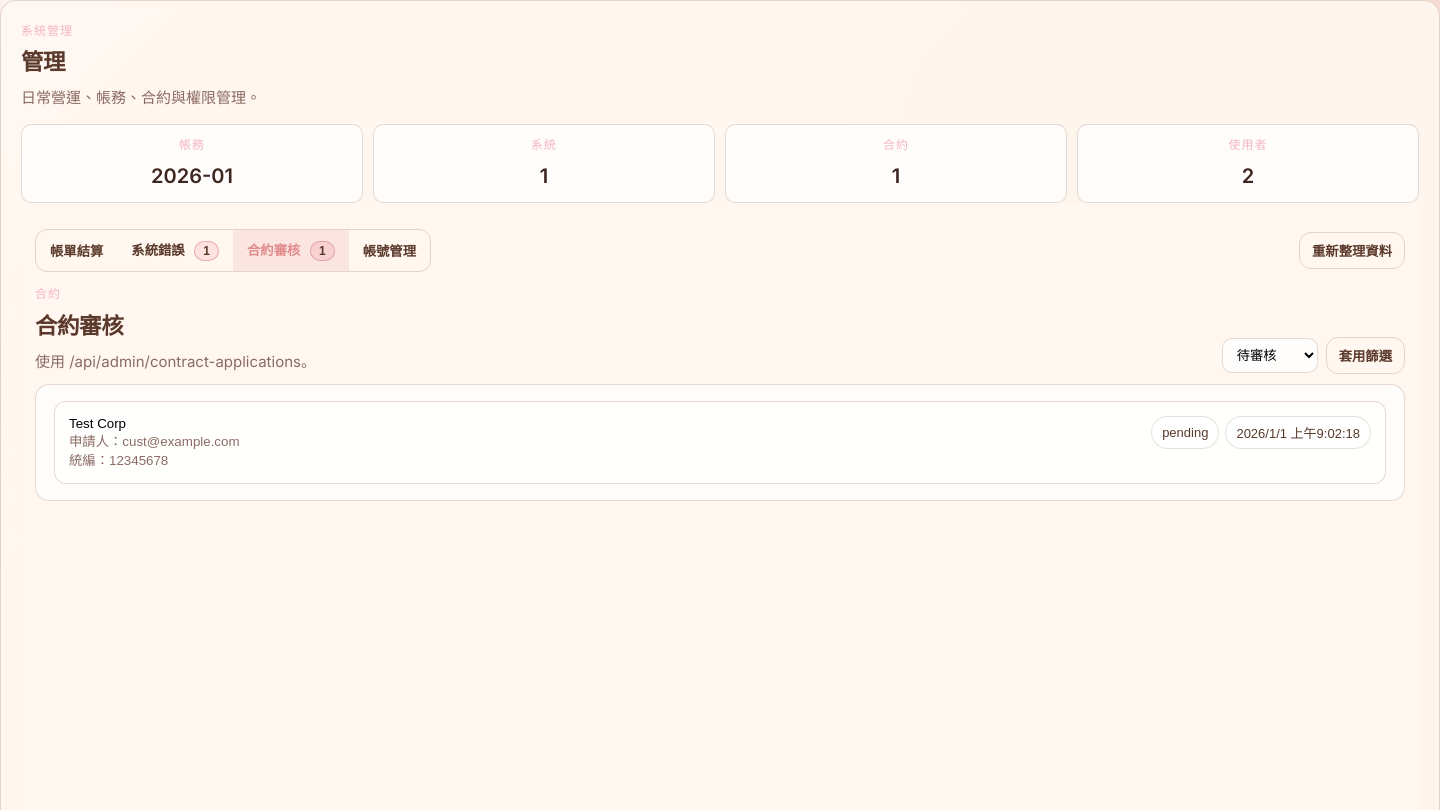
Scenario: AdminView › Tab 切換 › 應該能切換到錯誤 tab
The image size is (1440, 810).
What coordinates should you click on to do the following:
click the button "系統錯誤 1"
I would click on:
 (175, 251)
Its box is x1=117 y1=230 x2=233 y2=271.
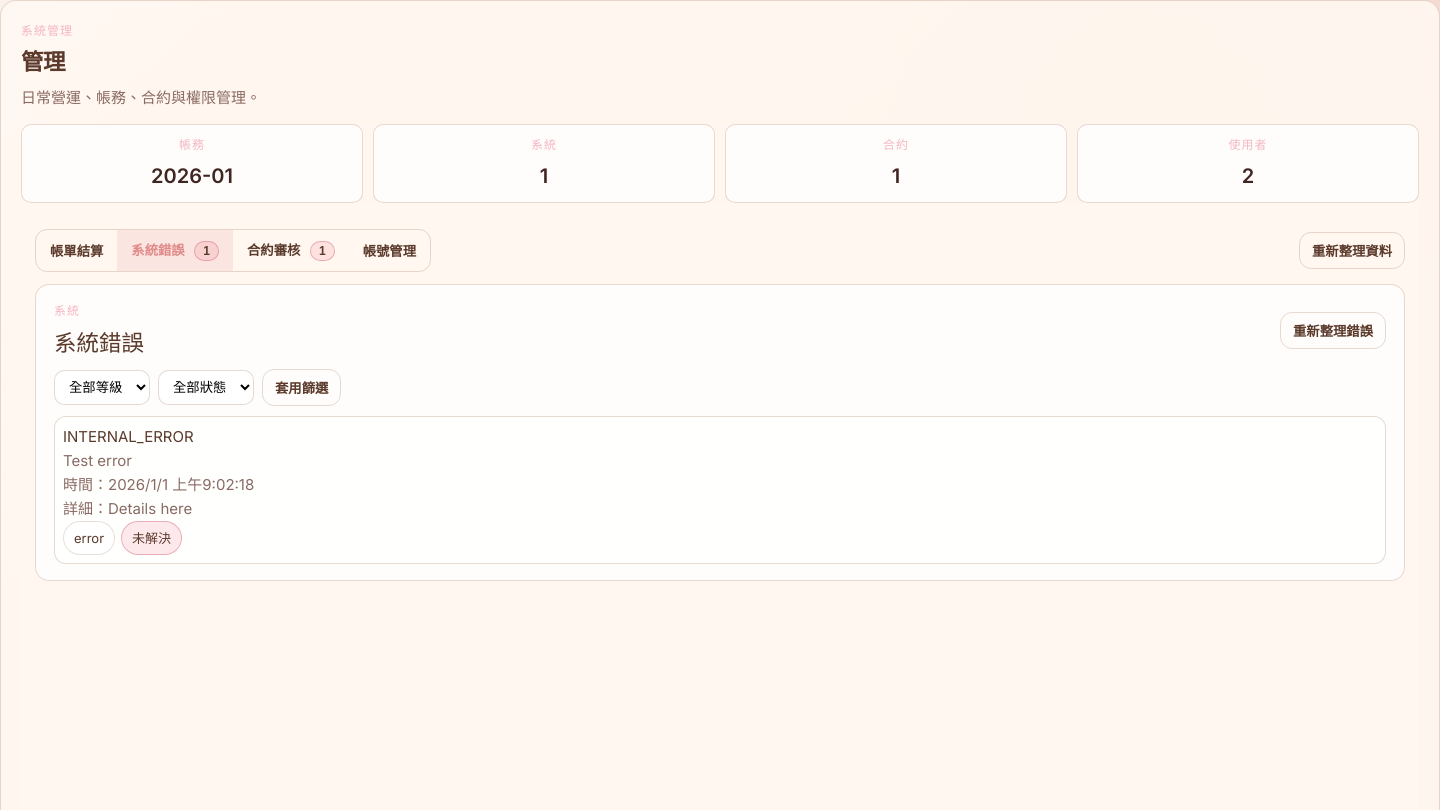
Now the text "INTERNAL_ERROR" is shown, box x1=63 y1=427 x2=194 y2=446
